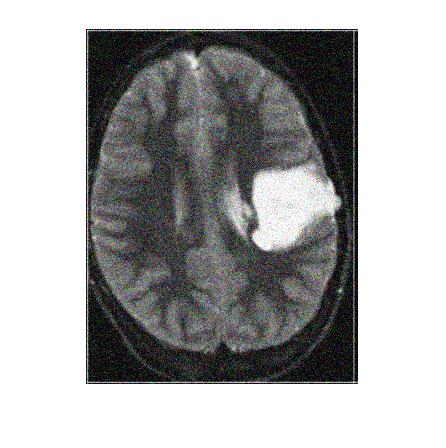Brain_Cancer: (247, 161, 333, 250)
